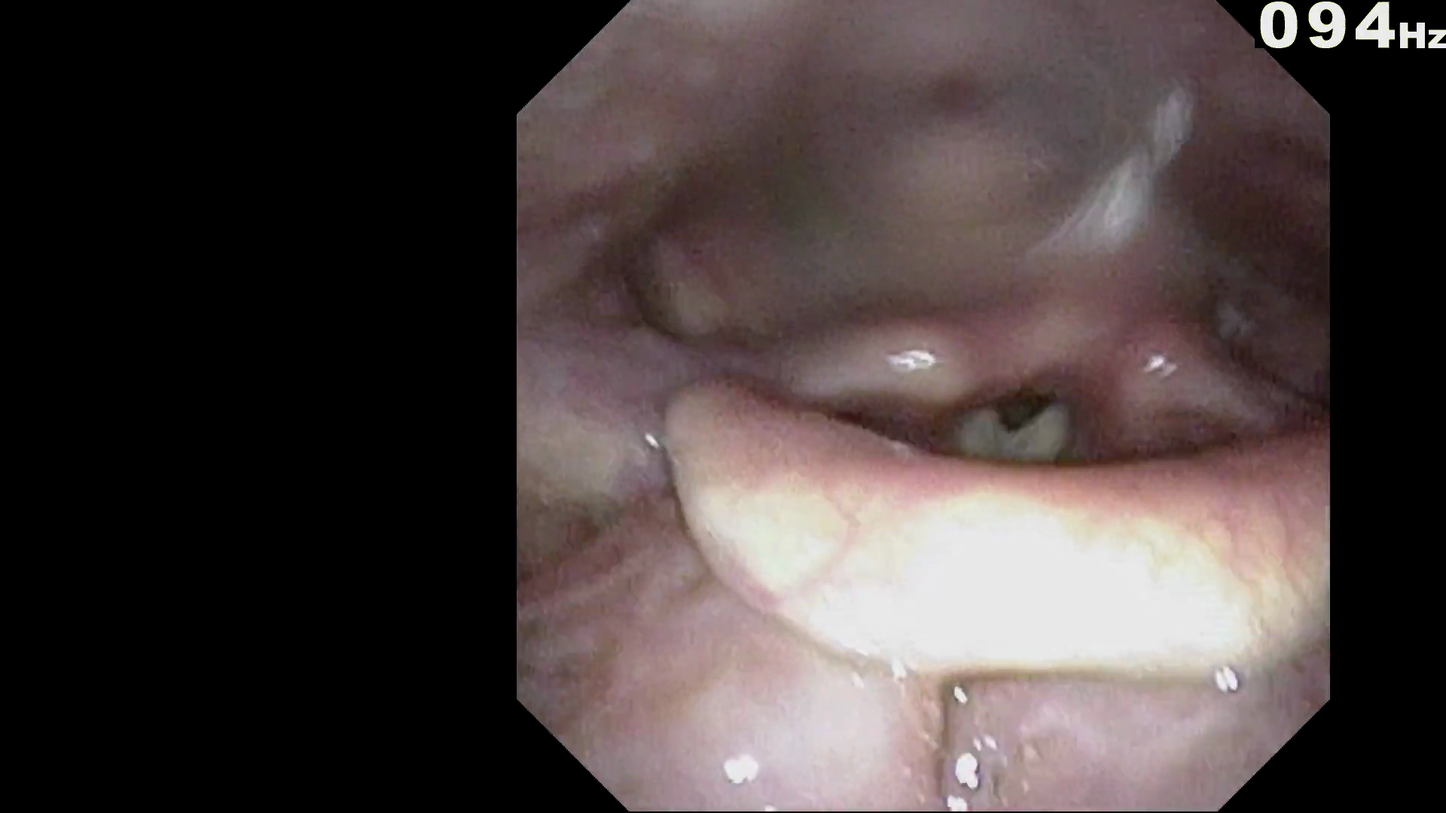epiglottis: (701, 453, 1310, 678)
